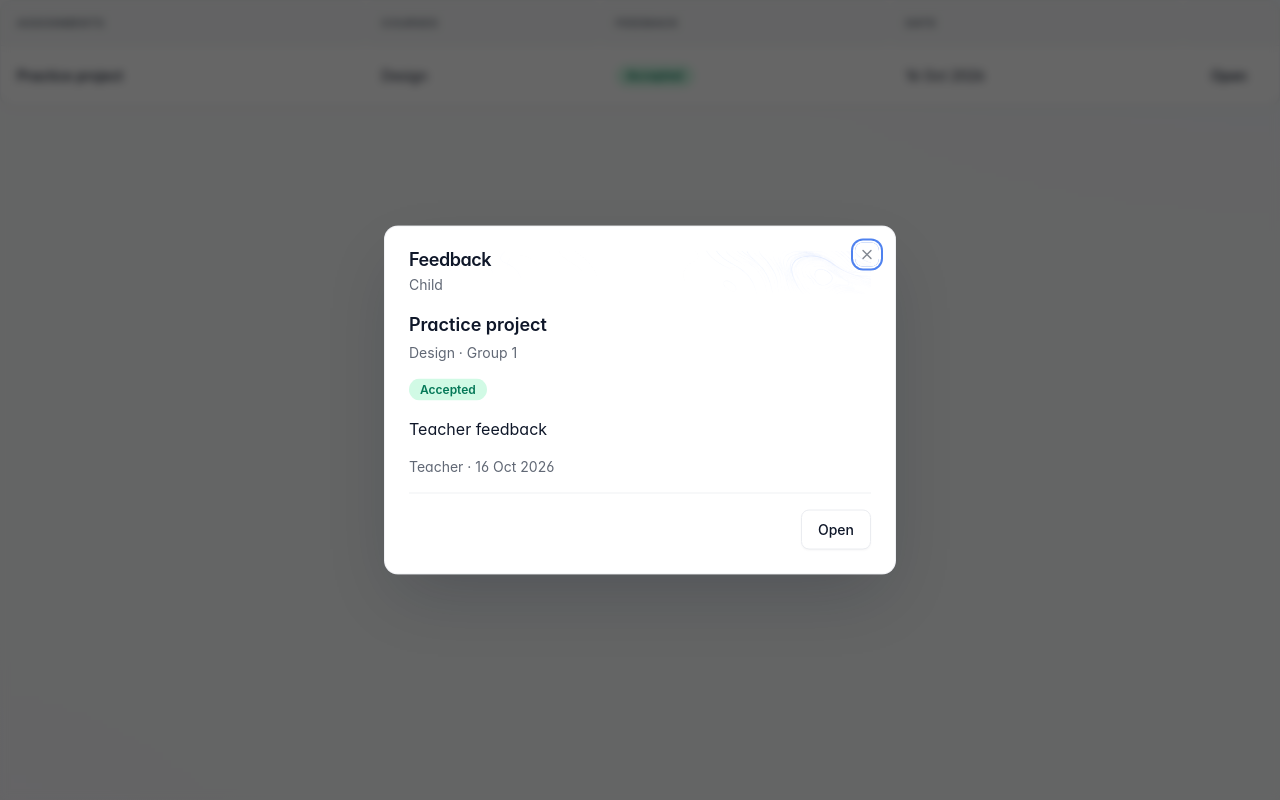
opens the parent feedback assignment in a nested readonly Dialog
The image size is (1280, 800).
Click the button "Open": (836, 530) [801, 510, 871, 550]
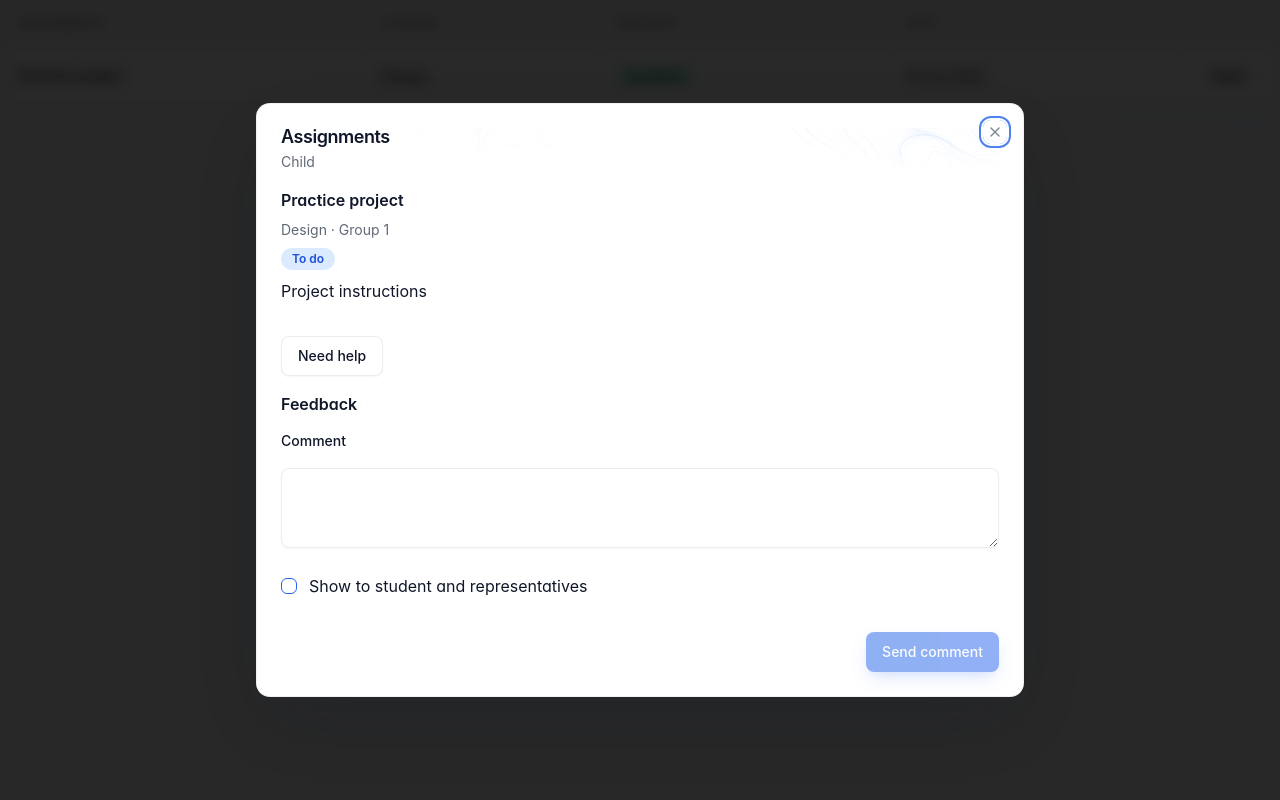
Check: the text "Project instructions" is shown, box [281, 281, 427, 301]
